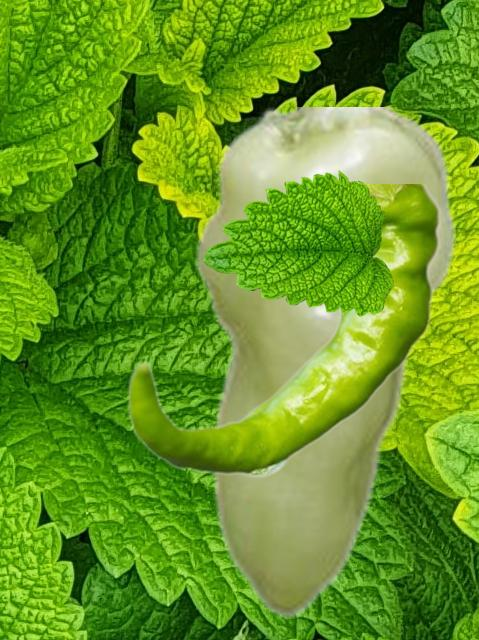green_chili: (189, 107, 454, 617), (127, 184, 441, 477)
